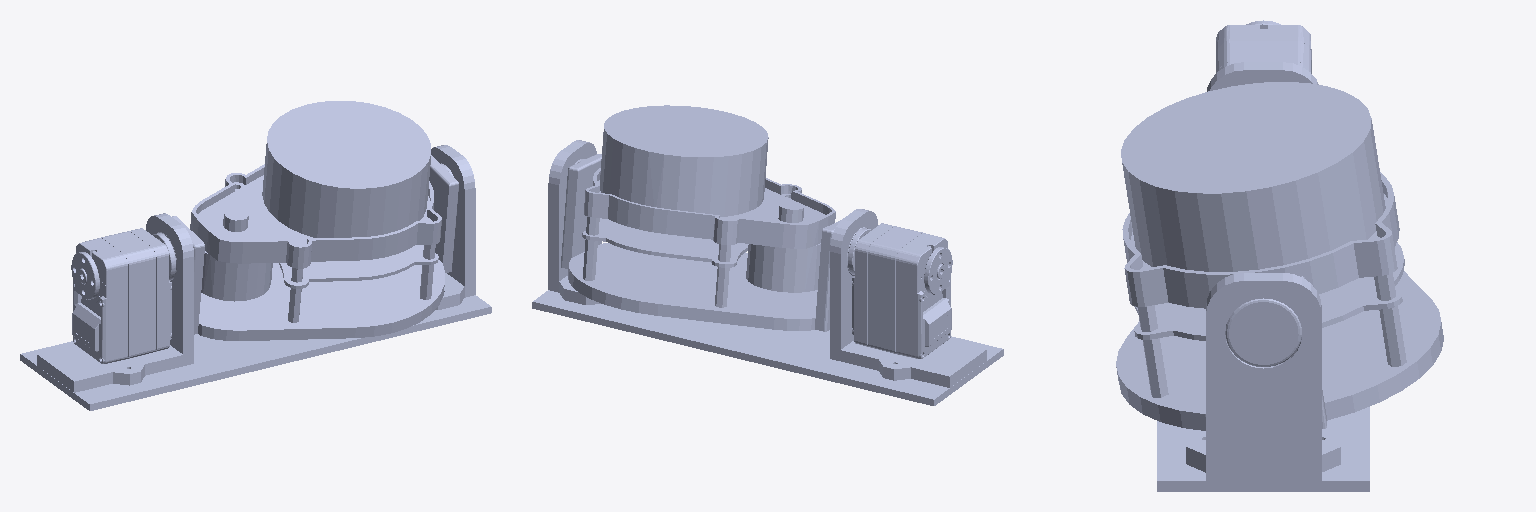
robot.urdf — simplified_lidar_frame:
<?xml version="1.0" encoding="utf-8"?>
<!-- This URDF was automatically created by SolidWorks to URDF Exporter! Originally created by [author] ([email redacted]) 
     Commit Version: 1.6.0-1-g15f4949  Build Version: 1.6.7594.29634
     For more information, please see http://wiki.ros.org/sw_urdf_exporter -->
<robot
  name="simplified_lidar_frame">
  <link
    name="base_link">
    <inertial>
      <origin
        xyz="0 0 0"
        rpy="0 0 0" />
      <mass
        value="0" />
    </inertial>
    <visual>
      <origin
        xyz="0 0 0"
        rpy="0 0 0" />
      <geometry>
        <mesh
          filename="package://simplified_lidar_frame/meshes/base_link.STL" />
      </geometry>
      <material
        name="">
        <color
          rgba="0.79216 0.81961 0.93333 1" />
      </material>
    </visual>
    <collision>
      <origin
        xyz="0 0 0"
        rpy="0 0 0" />
      <geometry>
        <mesh
          filename="package://simplified_lidar_frame/meshes/base_link.STL" />
      </geometry>
    </collision>
  </link>
  <link
    name="lidar_link">
    <inertial>
      <origin
        xyz="0.030677 -0.00027683 0.0019308"
        rpy="0 0 0" />
      <mass
        value="0" />
      <inertia
        ixx="0"
        ixy="0"
        ixz="0"
        iyy="0"
        iyz="0"
        izz="0" />
    </inertial>
    <visual>
      <origin
        xyz="0 0 0"
        rpy="0 0 0" />
      <geometry>
        <mesh
          filename="package://simplified_lidar_frame/meshes/lidar_link.STL" />
      </geometry>
      <material
        name="">
        <color
          rgba="0.79216 0.81961 0.93333 1" />
      </material>
    </visual>
    <collision>
      <origin
        xyz="0 0 0"
        rpy="0 0 0" />
      <geometry>
        <mesh
          filename="package://simplified_lidar_frame/meshes/lidar_link.STL" />
      </geometry>
    </collision>
  </link>
  <joint
    name="Bearing"
    type="revolute">
    <origin
      xyz="0 0 0.045"
      rpy="0 0 0" />
    <parent
      link="base_link" />
    <child
      link="lidar_link" />
    <axis
      xyz="1 0 0" />
    <limit
      lower="-0.7854"
      upper="0.7854"
      effort="1"
      velocity="1" />
  </joint>
</robot>

--- Facts derived from the render (not from the file) ---
Views: 3 orthographic renders of the robot side by side, from view 1: azimuth 30°, elevation 25°; view 2: azimuth 150°, elevation 25°; view 3: azimuth 270°, elevation 25°.
Robot: simplified_lidar_frame — 2 links, 1 joints (1 revolute); root link base_link; default pose: all joints at 0.
Visible links, largest first — view 1: lidar_link, base_link; view 2: lidar_link, base_link; view 3: lidar_link, base_link.
Boxes of the visible links, x1=… form: lidar_link: x1=159, y1=101, x2=458, y2=340; base_link: x1=20, y1=145, x2=491, y2=410; lidar_link: x1=561, y1=105, x2=866, y2=331; base_link: x1=532, y1=140, x2=1003, y2=405; lidar_link: x1=1116, y1=82, x2=1443, y2=430; base_link: x1=1157, y1=20, x2=1369, y2=491.
Bounding box of the posed robot: 0.184 × 0.0848 × 0.0813 m (x, y, z).
Meshes: 2 distinct files referenced, 2 mesh visuals loaded (2 binary STL).